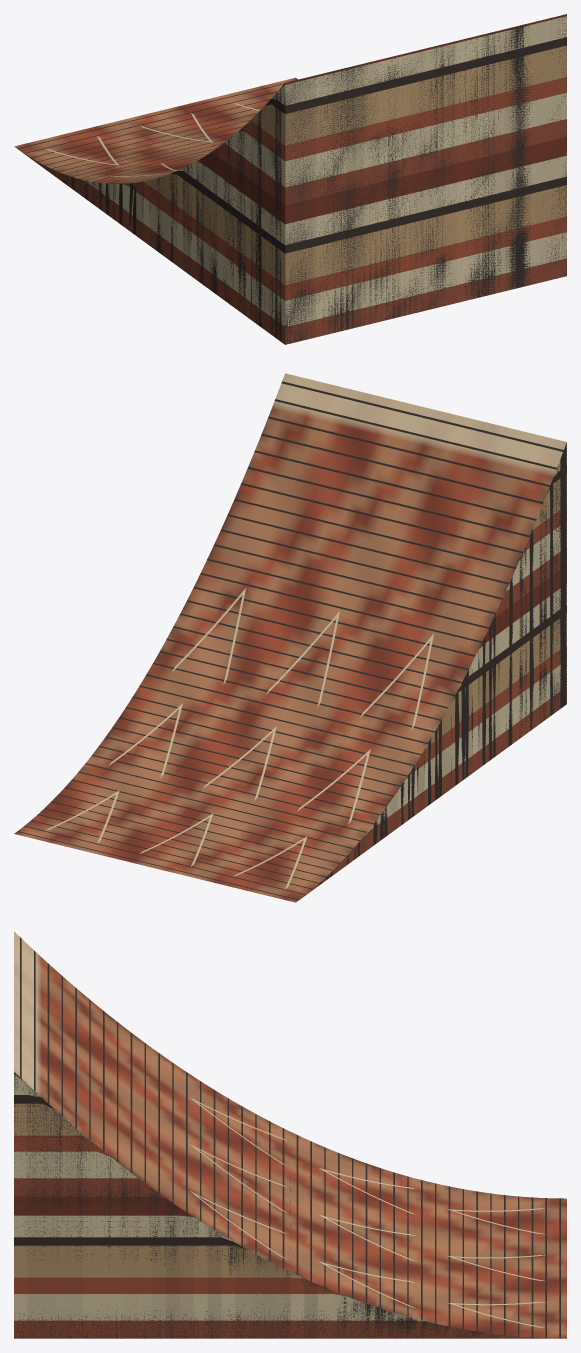
File: mesa_lip_kicker_60x32x36.glb
3 renders of one model, top to bottom at view 1: azimuth 30°, elevation 25°; view 2: azimuth 150°, elevation 25°; view 3: azimuth 270°, elevation 25°, orthographic.
Parts seen in each view (by area): view 1: mesa_lip_kicker_60x32x36, mesa_lip_kicker_60x32x36-col; view 2: mesa_lip_kicker_60x32x36, mesa_lip_kicker_60x32x36-col; view 3: mesa_lip_kicker_60x32x36, mesa_lip_kicker_60x32x36-col.
Boxes of the visible parts, bbox=[...] form: mesa_lip_kicker_60x32x36: bbox=[14, 14, 566, 344]; mesa_lip_kicker_60x32x36-col: bbox=[17, 15, 566, 344]; mesa_lip_kicker_60x32x36: bbox=[14, 373, 566, 902]; mesa_lip_kicker_60x32x36-col: bbox=[17, 381, 566, 900]; mesa_lip_kicker_60x32x36: bbox=[14, 931, 566, 1338]; mesa_lip_kicker_60x32x36-col: bbox=[14, 937, 560, 1338].
Bounding box in the file's own units: 36 × 32 × 60.
